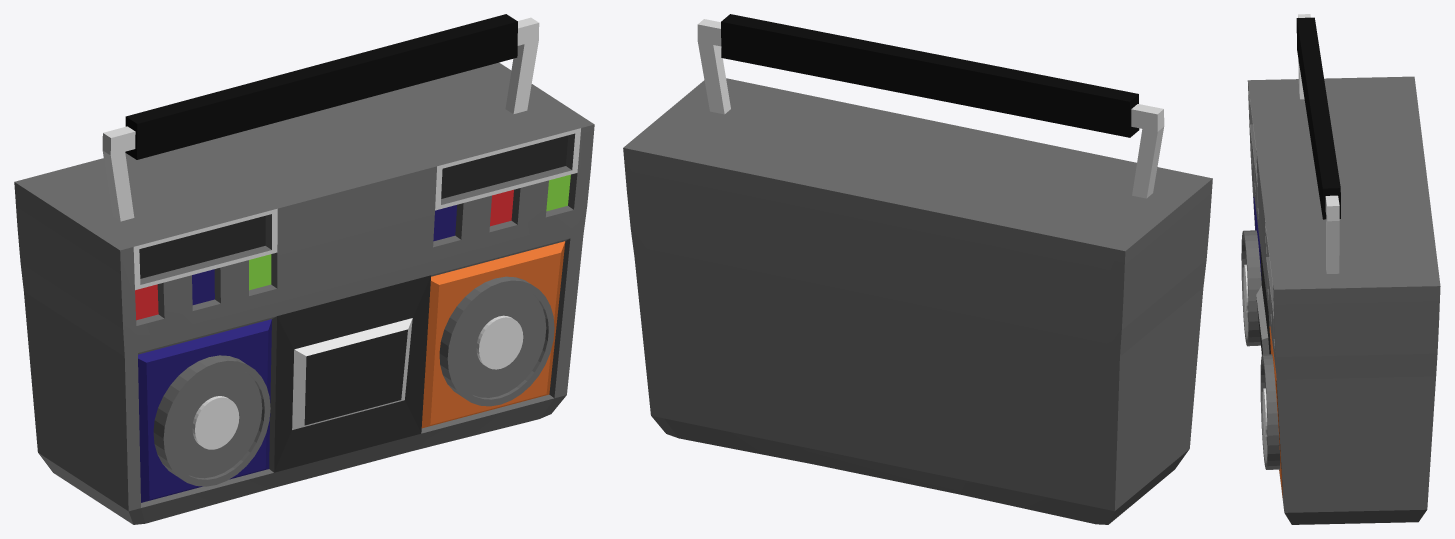
The model's file is boombox-model.glb.
3 views of the same model, side by side, from view 1: azimuth 30°, elevation 25°; view 2: azimuth 150°, elevation 25°; view 3: azimuth 270°, elevation 25° (orthographic). The views are drawn at different scales.
Visible parts, largest first — view 1: boombox; view 2: boombox; view 3: boombox.
Part boxes in pixels (x1,y1,x2,y2): boombox: [14, 14, 594, 524]; boombox: [623, 14, 1212, 524]; boombox: [1241, 14, 1440, 524].
Size of the model in its own units: 1.95 by 1.46 by 0.7832.
